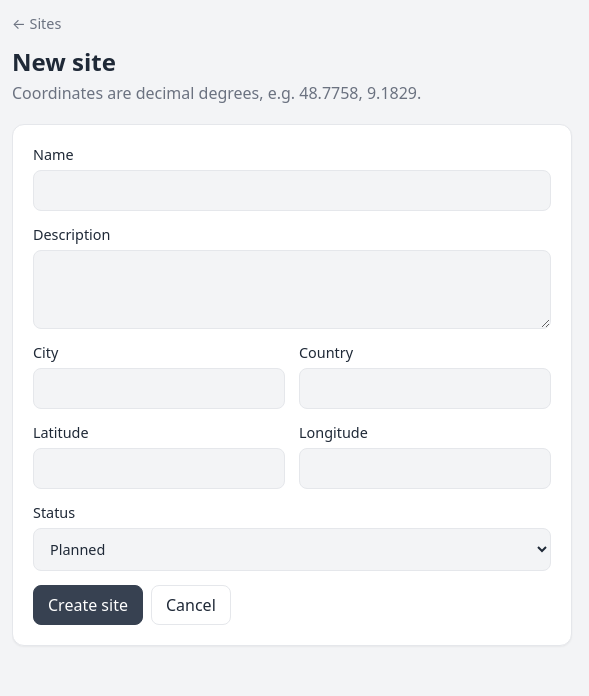
it: SiteFormPage › shows the API error and stays on the form
Type "X" into the field labelled "Name" at (292, 190), box [33, 170, 551, 211]
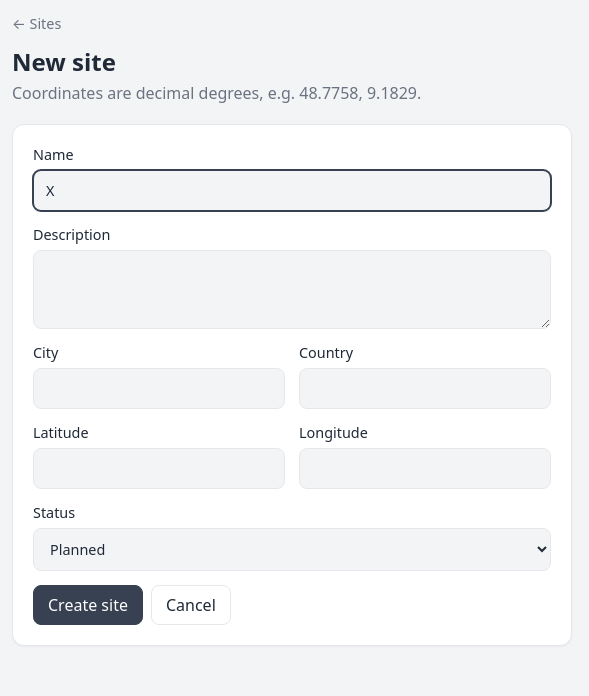
Type "Y" into the field labelled "City" at (159, 388), box [33, 368, 285, 409]
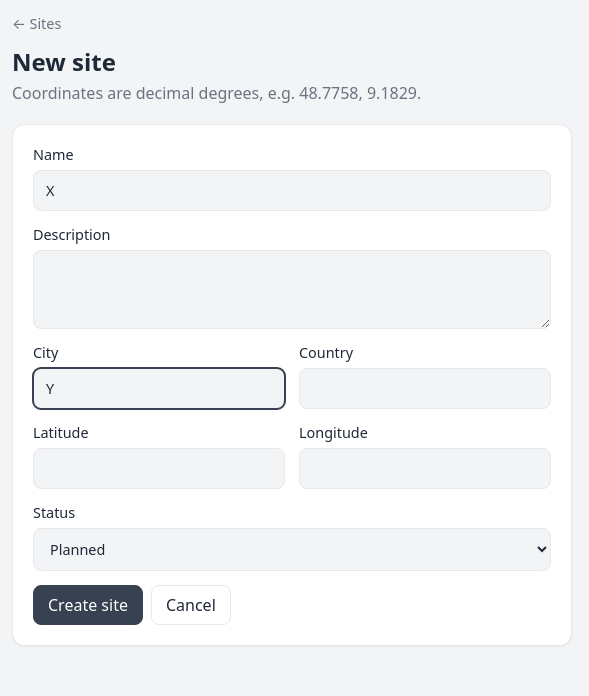
Type "Z" into the field labelled "Country" at (425, 388), box [299, 368, 551, 409]
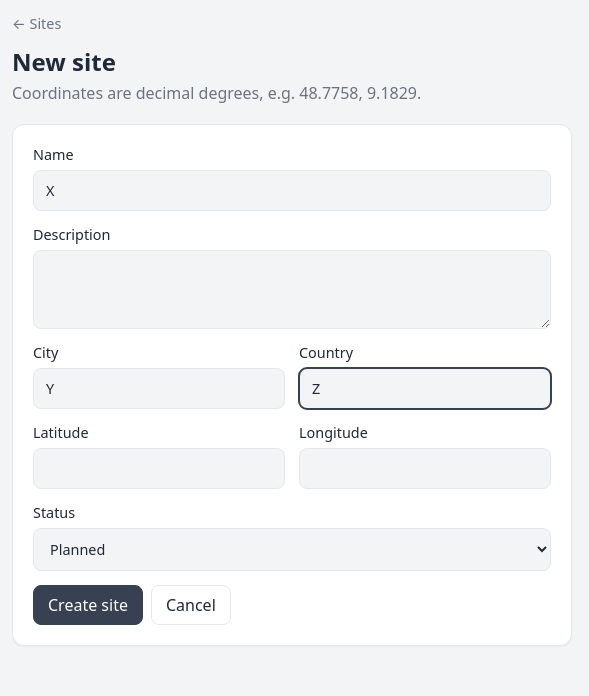
Type "1" into the number field labelled "Latitude" at (159, 468), box [33, 448, 285, 489]
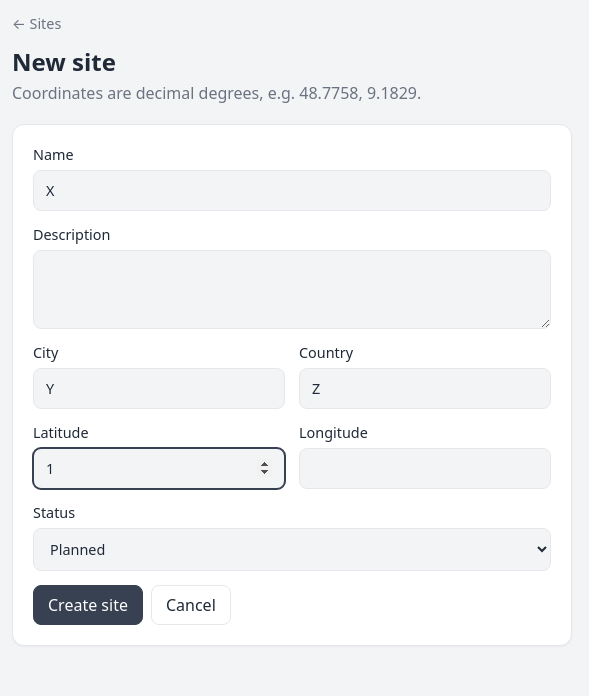
Type "1" into the number field labelled "Longitude" at (425, 468), box [299, 448, 551, 489]
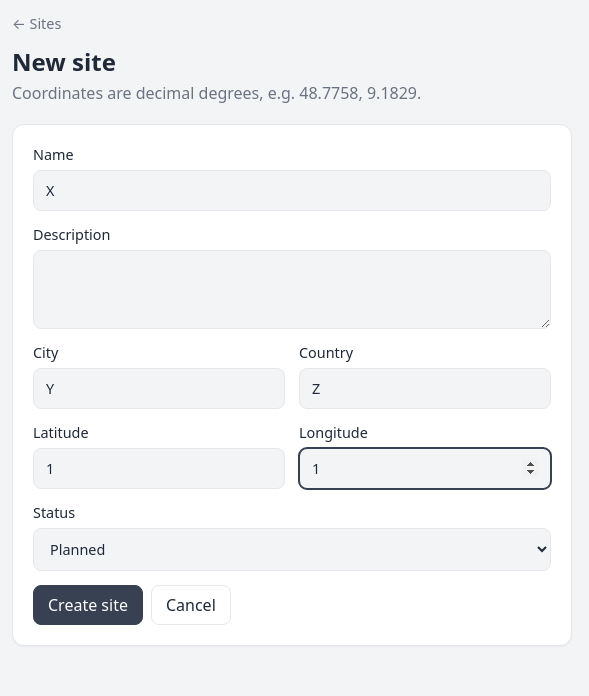
Click the button "Create site" at (88, 605), box [33, 585, 143, 625]
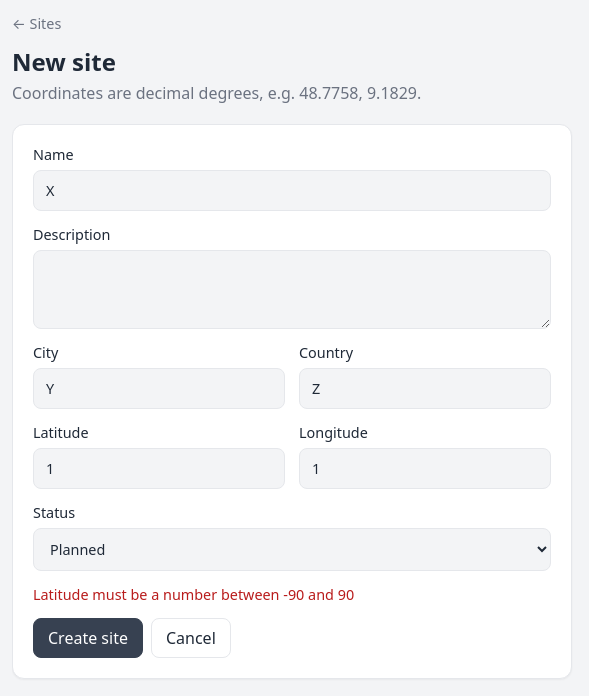
Expected: the button "Create site" is enabled, [33, 618, 143, 658]
Now the message shows "Latitude must be", box [33, 585, 354, 604]
